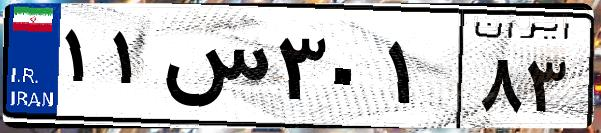0: (330, 28, 385, 110)
1: (385, 28, 445, 110), (57, 26, 110, 100), (110, 28, 158, 98)
3: (270, 28, 330, 110), (525, 38, 570, 115)
8: (475, 38, 525, 113)
س: (158, 20, 270, 120)
